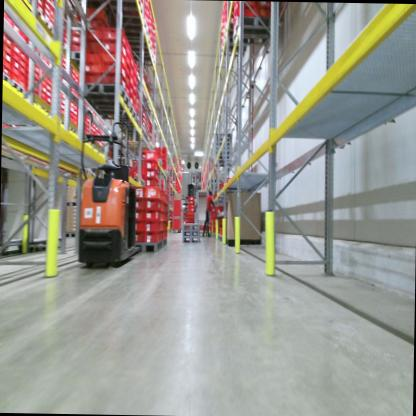pallet: (234, 12, 282, 53), (78, 81, 130, 107), (218, 31, 253, 60), (88, 99, 138, 119), (103, 0, 147, 21), (110, 18, 149, 38), (121, 35, 151, 53), (64, 48, 89, 69), (132, 239, 163, 255), (12, 77, 27, 99), (209, 158, 231, 167), (2, 71, 13, 87), (63, 229, 78, 240), (181, 222, 200, 230), (182, 235, 200, 242), (212, 131, 232, 137), (65, 199, 78, 208), (212, 145, 232, 150), (212, 149, 232, 154), (212, 153, 231, 158), (212, 137, 230, 142), (182, 230, 200, 235), (212, 141, 230, 145), (162, 237, 168, 249)
pallet_truck: (78, 114, 185, 272)
small_load_carrier: (102, 23, 127, 46), (103, 59, 126, 82), (106, 47, 126, 72), (102, 74, 126, 92), (103, 38, 127, 56), (86, 7, 108, 25), (83, 49, 105, 64), (144, 184, 161, 201), (144, 207, 161, 224), (143, 219, 162, 234), (81, 64, 104, 76), (143, 195, 161, 210), (84, 26, 103, 40), (144, 156, 160, 172), (66, 31, 84, 44), (144, 168, 161, 181), (128, 196, 143, 210), (81, 73, 102, 83), (144, 150, 160, 163), (132, 207, 144, 224), (143, 231, 158, 244), (128, 230, 143, 243), (83, 39, 102, 49), (145, 174, 159, 187), (129, 184, 144, 196), (67, 38, 82, 50), (132, 219, 145, 232), (3, 32, 13, 48), (18, 64, 28, 78), (11, 49, 21, 62), (11, 70, 20, 84), (4, 41, 12, 56), (125, 61, 131, 80), (36, 0, 44, 14), (11, 42, 20, 54), (3, 62, 11, 75), (3, 55, 11, 68), (3, 49, 11, 62), (10, 65, 19, 76), (19, 54, 26, 67), (21, 47, 27, 62), (125, 53, 131, 67), (20, 70, 26, 84), (125, 73, 130, 88), (124, 83, 129, 97), (126, 40, 130, 56), (36, 0, 44, 8), (44, 12, 50, 22), (158, 232, 164, 241), (161, 221, 165, 231)
